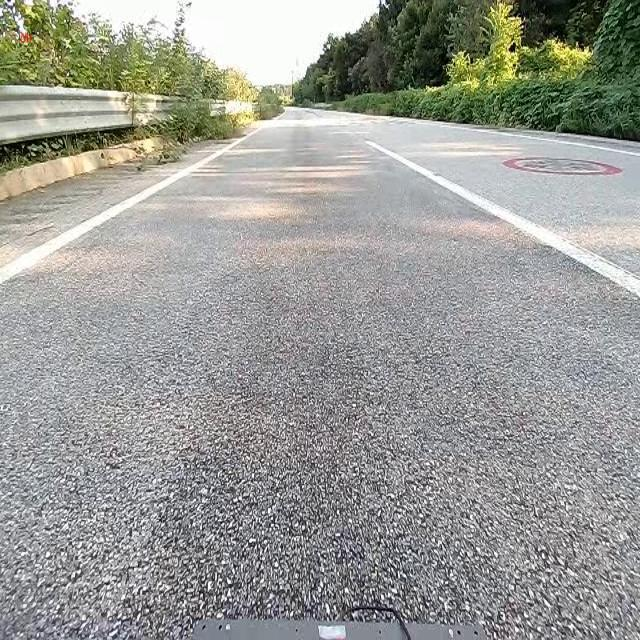Lane: (368, 135, 640, 303), (0, 122, 267, 283), (366, 141, 639, 297), (0, 129, 258, 285)
